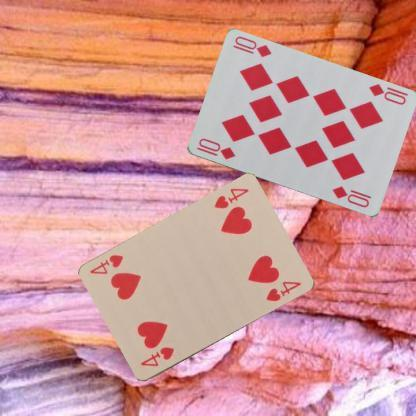10d: (366, 80, 410, 107), (194, 136, 236, 162)
4h: (138, 344, 176, 369), (212, 186, 250, 210)
